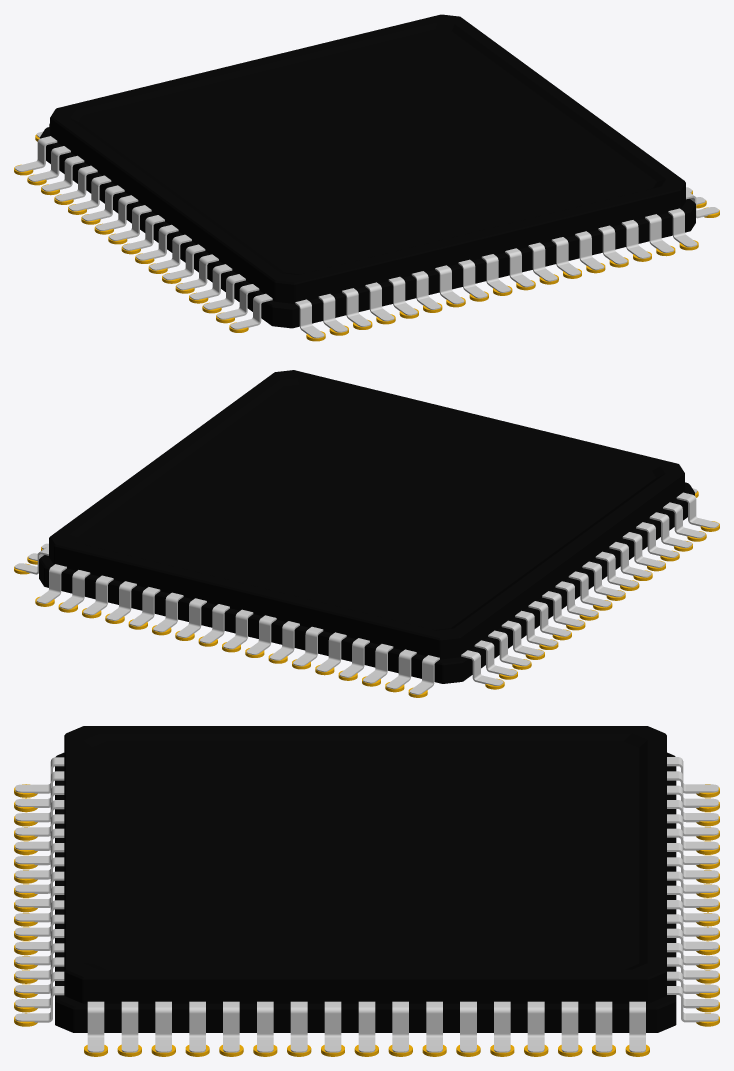
The model's file is chip.glb.
The picture shows the model from 3 angles, top to bottom: view 1: azimuth 30°, elevation 25°; view 2: azimuth 150°, elevation 25°; view 3: azimuth 270°, elevation 25°; orthographic projection. The views are drawn at different scales.
Visible parts, largest first — view 1: Box002, Line001, Line003, Circle087, Circle088; view 2: Box002, Line004, Line003, Circle086, Circle088; view 3: Box002, Line002, Line004, Line001, Circle085, Circle086, Circle087.
Part boxes in pixels (x1,y1,x2,y2): Box002: [40, 14, 695, 328]; Line001: [295, 208, 697, 338]; Line003: [15, 136, 272, 329]; Circle087: [306, 240, 698, 341]; Circle088: [14, 164, 248, 332]; Box002: [39, 370, 694, 683]; Line004: [36, 564, 439, 694]; Line003: [461, 492, 718, 685]; Circle086: [35, 596, 427, 697]; Circle088: [485, 521, 719, 689]; Box002: [55, 726, 676, 1032]; Line002: [87, 1001, 645, 1052]; Line004: [667, 757, 718, 1022]; Line001: [15, 757, 64, 1022]; Circle085: [84, 1044, 649, 1056]; Circle086: [696, 784, 719, 1026]; Circle087: [14, 784, 37, 1026].
Bounding box in the file's own units: 9.44 × 0.8211 × 9.41.
